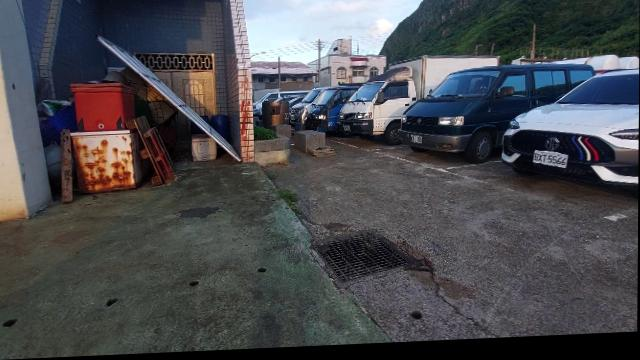pollute: (70, 67, 180, 195), (36, 99, 75, 146), (197, 117, 230, 146), (188, 136, 218, 164), (44, 143, 62, 182), (63, 129, 72, 201)
